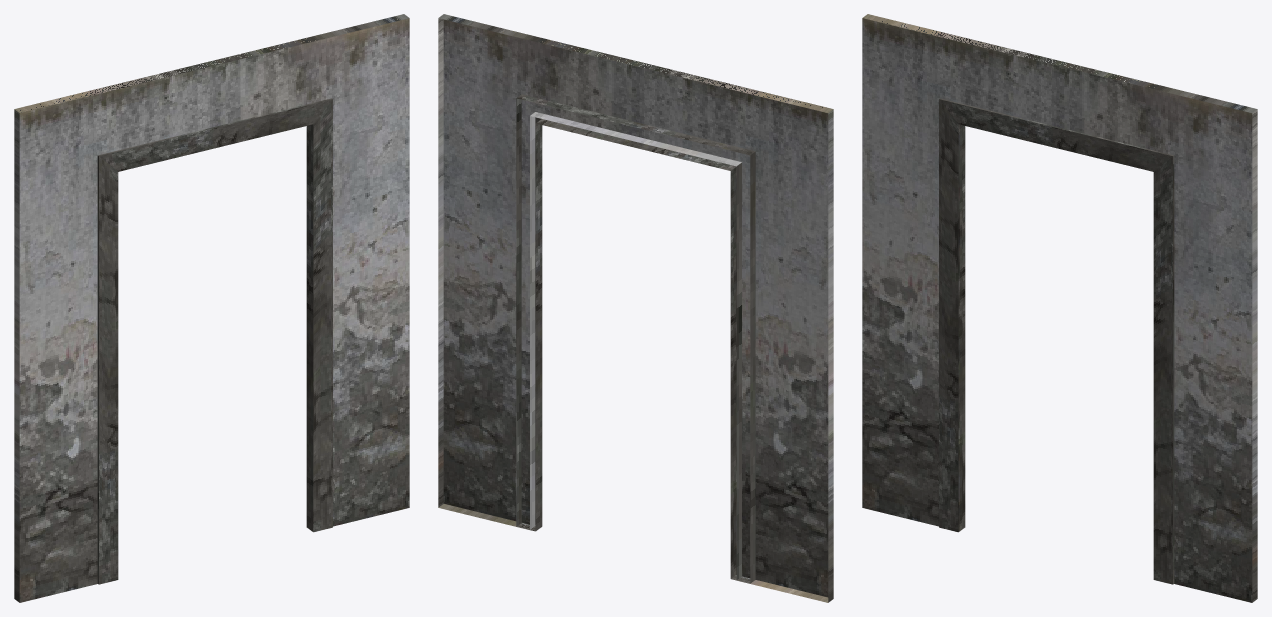
Rendered from doorway8.glb.
3 renders of one model, left to right at view 1: azimuth 30°, elevation 25°; view 2: azimuth 150°, elevation 25°; view 3: azimuth 330°, elevation 25°, orthographic.
Parts seen in each view (by area): view 1: doorway8; view 2: doorway8; view 3: doorway8.
Part boxes in pixels (box(x1,y1,x2,y2)): doorway8: box(14, 14, 409, 602); doorway8: box(438, 14, 833, 602); doorway8: box(862, 14, 1257, 602).
Bounding box in the file's own units: 2 × 2.4 × 0.06.
Materials: 1 (1 with a texture image).
